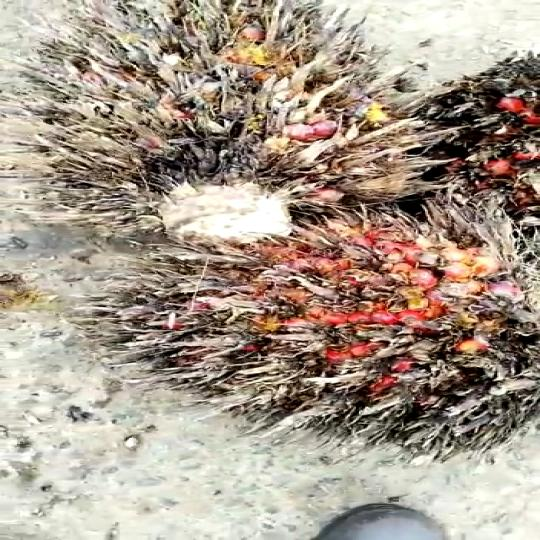terlalu masak: (40, 179, 540, 442), (0, 0, 441, 242)
